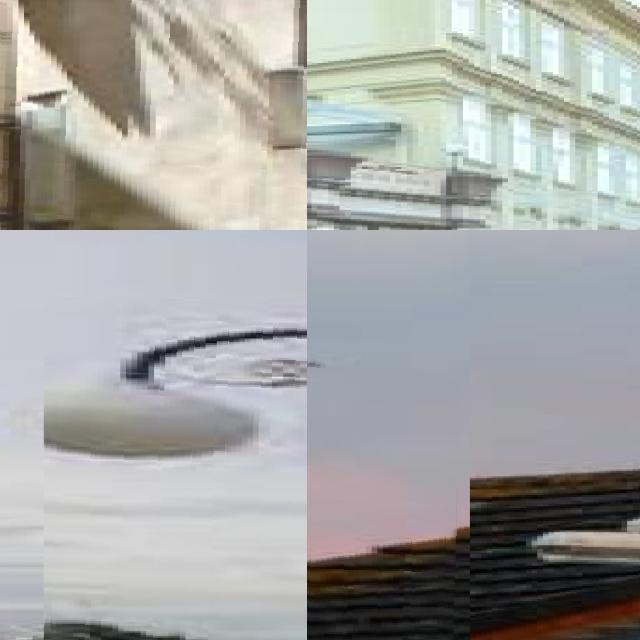street light: (44, 297, 307, 640), (0, 0, 307, 230), (307, 230, 470, 640), (531, 519, 640, 640)
